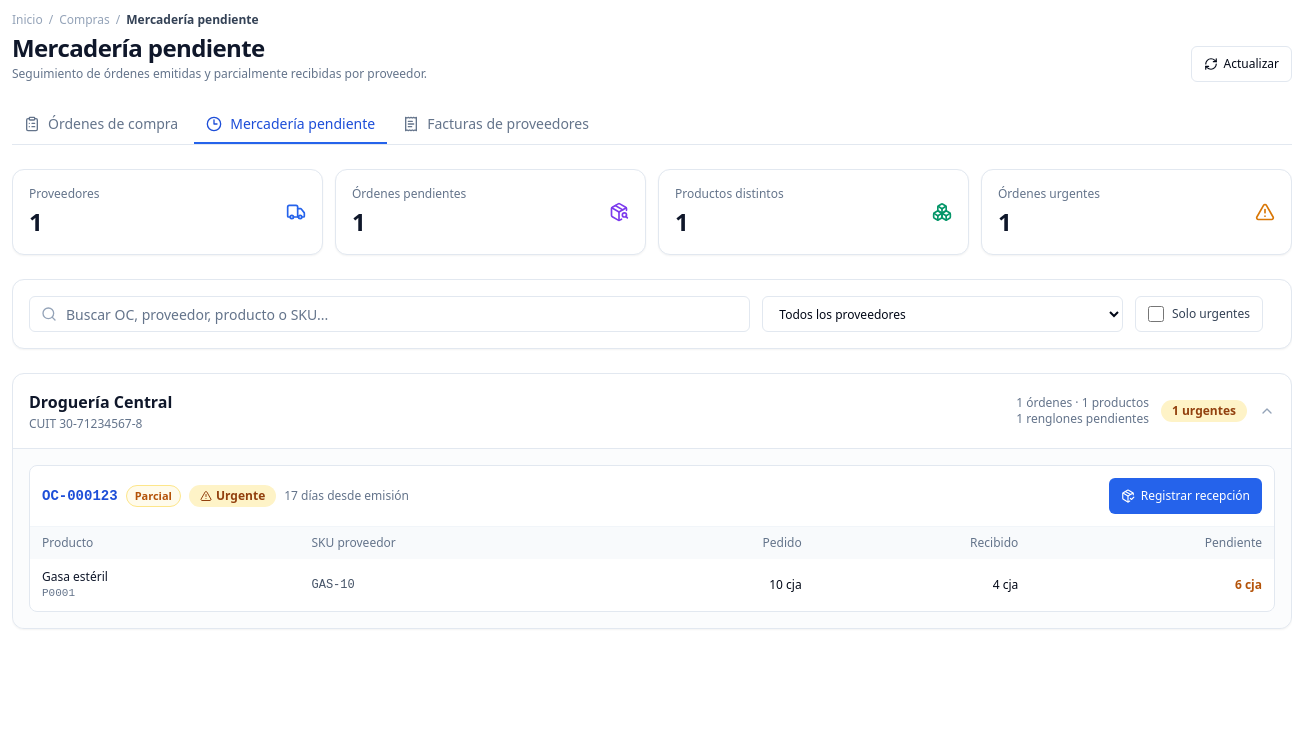
Test: PurchaseBackordersPage › collapses a supplier group accessibly
Click the button "Droguería Central": (101, 402) [13, 374, 1291, 448]
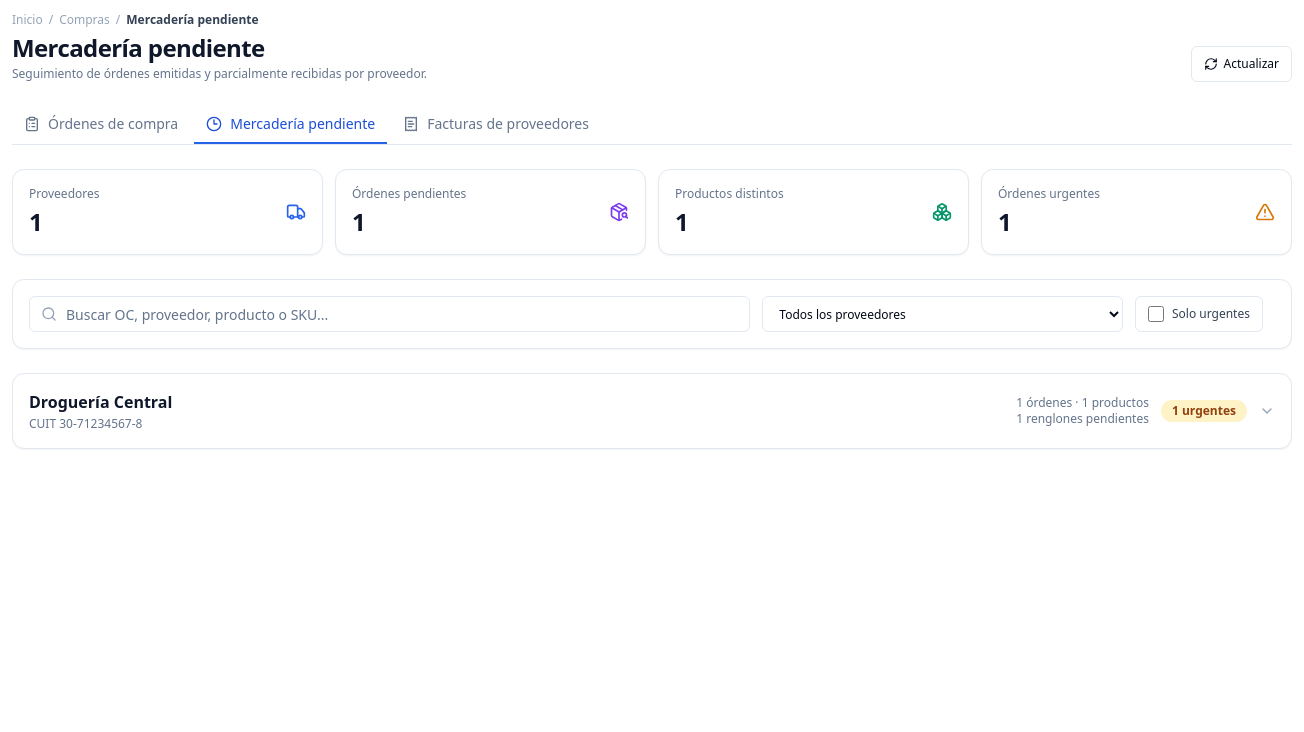
Result: the button "Droguería Central" is collapsed at [13, 374, 1291, 448]
Result: the text "Gasa estéril" is gone
